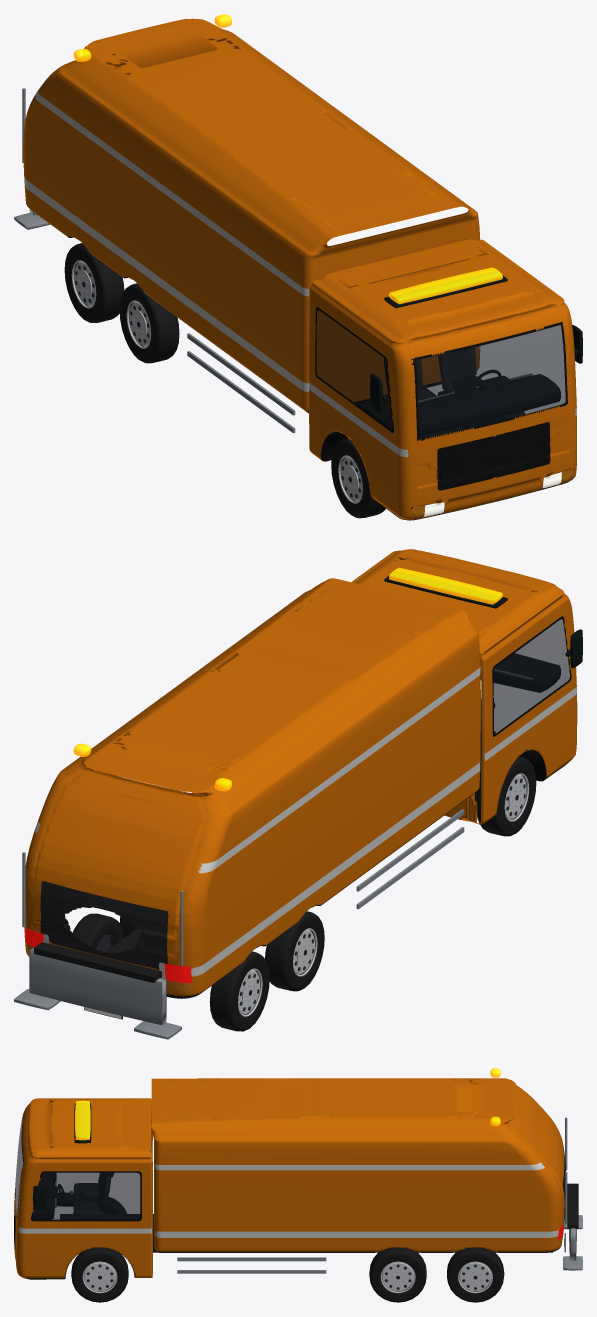
Rendered from car_refuse.glb.
The picture shows the model from 3 angles, top to bottom: view 1: azimuth 30°, elevation 25°; view 2: azimuth 150°, elevation 25°; view 3: azimuth 270°, elevation 25°; orthographic projection. The views are drawn at different scales.
Parts seen in each view (by area): view 1: body, glass, wheel_RR_mesh, wheel_RR2_mesh, wheel_FR_mesh, siren; view 2: body, glass, wheel_RR2_mesh, wheel_RR_mesh, wheel_FR_mesh, siren, wheel_RL2_mesh, taillight; view 3: body, glass, wheel_RL_mesh, wheel_RL2_mesh, wheel_FL_mesh, siren.
Boxes of the visible parts, x1,y1,x2,y2 form: body: (14, 18, 582, 520); glass: (316, 310, 565, 438); wheel_RR_mesh: (119, 283, 179, 363); wheel_RR2_mesh: (64, 243, 124, 322); wheel_FR_mesh: (331, 438, 385, 518); siren: (73, 14, 502, 304); body: (14, 549, 582, 1039); glass: (493, 619, 569, 733); wheel_RR2_mesh: (210, 951, 269, 1031); wheel_RR_mesh: (265, 911, 324, 991); wheel_FR_mesh: (476, 756, 536, 836); siren: (73, 567, 502, 791); wheel_RL2_mesh: (72, 913, 123, 951); taillight: (25, 927, 191, 983); body: (14, 1078, 582, 1279); glass: (15, 1115, 140, 1219); wheel_RL_mesh: (369, 1247, 426, 1302); wheel_RL2_mesh: (447, 1247, 504, 1302); wheel_FL_mesh: (71, 1247, 128, 1302); siren: (75, 1068, 500, 1140).
Size of the model in its own units: 2.91 by 3.49 by 9.93.
